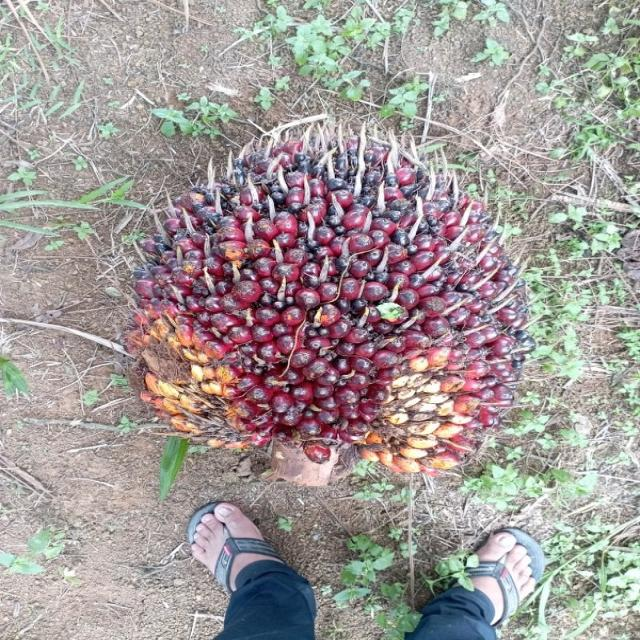fraksi 1: (122, 112, 526, 470)
